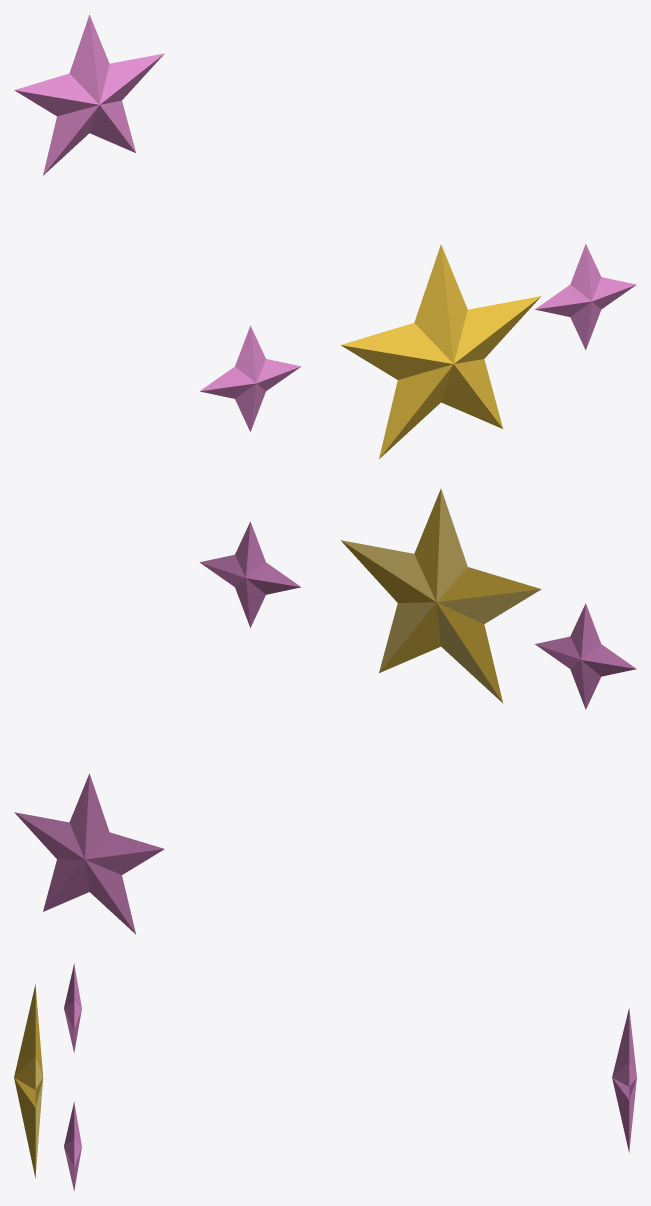
The picture shows the model from 3 angles, top to bottom: view 1: azimuth 30°, elevation 25°; view 2: azimuth 150°, elevation 25°; view 3: azimuth 270°, elevation 25°; orthographic projection. The views are drawn at different scales.
Parts seen in each view (by area): view 1: 吊篮星形纸饰.001; view 2: 吊篮星形纸饰.001; view 3: 吊篮星形纸饰.001.
Part boxes in pixels (box(x1,y1,x2,y2)): 吊篮星形纸饰.001: box(14, 14, 636, 458); 吊篮星形纸饰.001: box(14, 488, 636, 934); 吊篮星形纸饰.001: box(14, 963, 636, 1191).
Bounding box in the file's own units: 0.2976 × 0.1302 × 0.4344.
